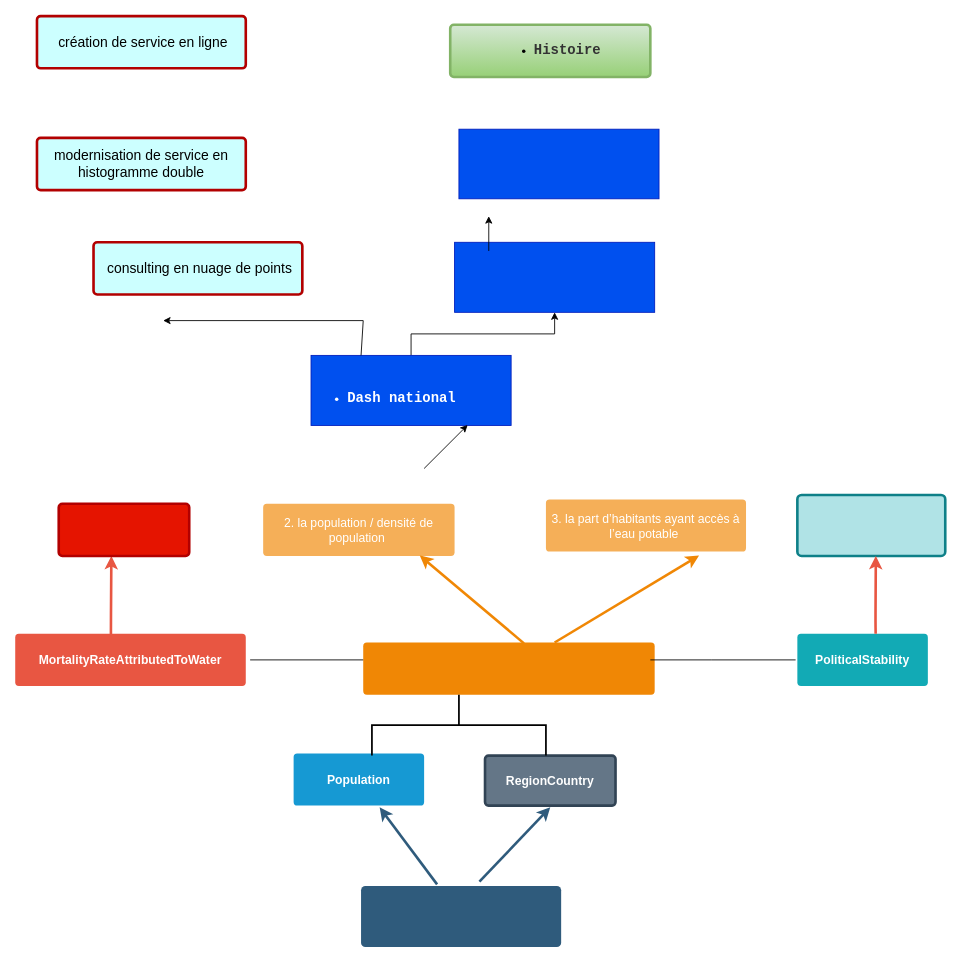
This 961x962 diagram has some shape labels left out. Each missing label, with the centre of its shape:
"1. le taux de mortalité dû à de l’eau insalubre" belongs at [123,529].
"4. la stabilité politique du pays" belongs at [871,525].
"BasicAndSafelyManagedDrinkingWaterServices" belongs at [508,668].
"Dash continental" belongs at [554,276].
"Dash mondial" belongs at [558,163].
"Dictionnaire de données" belongs at [461,916].
